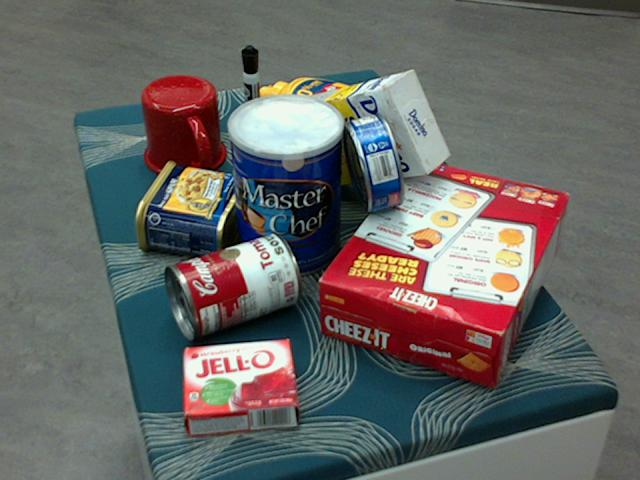cracker_box: (316, 157, 569, 386)
gelatin_box: (183, 338, 299, 434)
large_marker: (240, 45, 262, 148)
master_chef_can: (227, 95, 342, 280)
mug: (140, 75, 227, 178)
mustard_bottle: (257, 76, 421, 165)
potted_meat_can: (134, 161, 249, 258)
sugar_box: (272, 70, 449, 187)
tomato_soup_can: (163, 234, 299, 338)
tuna_fish_can: (342, 111, 404, 210)
